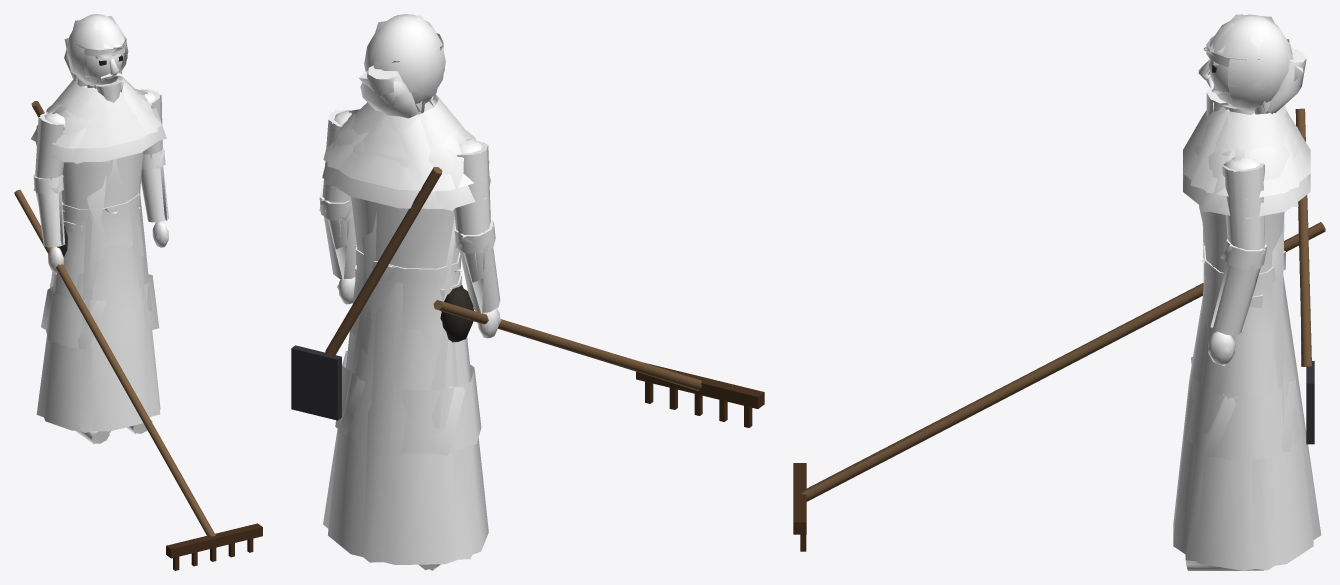
Rendered from char_collier.glb.
The picture shows the model from 3 angles, left to right: view 1: azimuth 30°, elevation 25°; view 2: azimuth 150°, elevation 25°; view 3: azimuth 270°, elevation 25°; orthographic projection. The views are drawn at different scales.
Parts seen in each view (by area): view 1: body__sex_f, body__sex_m, arm_R__base, head__hat_hood, lod1__body__sex_f, lod1__body__sex_m, lod1__head__hat_hood, arm_R__sleeves_full, arm_L__sleeves_full, arm_L__base, head__hat_cap, head__base (+5 smaller); view 2: body__sex_m, body__sex_f, head__hat_hood, lod1__body__sex_f, arm_R__base, lod1__body__sex_m, body__spade_yes_sex_m, lod1__head__hat_hood, head__hat_back, arm_R__sleeves_full, arm_L__sleeves_full, arm_L__base (+3 smaller); view 3: body__sex_m, body__sex_f, head__hat_hood, arm_R__base, lod1__body__sex_f, lod1__body__sex_m, arm_L__base, body__spade_yes_sex_m, lod1__head__hat_hood, arm_L__sleeves_full, head__hat_back, lod1__arm_L__base (+2 smaller).
Part boxes in pixels (x1=…): body__sex_f: x1=44, y1=165, x2=160, y2=431; body__sex_m: x1=36, y1=86, x2=158, y2=347; arm_R__base: x1=14, y1=111, x2=262, y2=570; head__hat_hood: x1=36, y1=14, x2=161, y2=148; lod1__body__sex_f: x1=36, y1=159, x2=160, y2=432; lod1__body__sex_m: x1=31, y1=88, x2=166, y2=349; lod1__head__hat_hood: x1=53, y1=16, x2=157, y2=148; arm_R__sleeves_full: x1=37, y1=191, x2=65, y2=247; arm_L__sleeves_full: x1=141, y1=166, x2=168, y2=222; arm_L__base: x1=139, y1=88, x2=168, y2=247; head__hat_cap: x1=76, y1=23, x2=126, y2=57; head__base: x1=87, y1=50, x2=124, y2=87; body__sex_m: x1=322, y1=105, x2=490, y2=453; body__sex_f: x1=328, y1=312, x2=488, y2=564; head__hat_hood: x1=323, y1=14, x2=489, y2=190; lod1__body__sex_f: x1=323, y1=270, x2=472, y2=562; arm_R__base: x1=433, y1=139, x2=764, y2=427; lod1__body__sex_m: x1=325, y1=99, x2=467, y2=455; body__spade_yes_sex_m: x1=291, y1=167, x2=442, y2=420; lod1__head__hat_hood: x1=327, y1=15, x2=445, y2=192; head__hat_back: x1=360, y1=65, x2=418, y2=118; arm_R__sleeves_full: x1=459, y1=247, x2=500, y2=312; arm_L__sleeves_full: x1=324, y1=216, x2=356, y2=279; arm_L__base: x1=322, y1=109, x2=355, y2=304; body__sex_m: x1=1183, y1=109, x2=1310, y2=462; body__sex_f: x1=1173, y1=212, x2=1313, y2=570; head__hat_hood: x1=1183, y1=14, x2=1310, y2=199; arm_R__base: x1=793, y1=222, x2=1325, y2=551; lod1__body__sex_f: x1=1185, y1=205, x2=1321, y2=570; lod1__body__sex_m: x1=1191, y1=113, x2=1298, y2=457; arm_L__base: x1=1208, y1=158, x2=1264, y2=365; body__spade_yes_sex_m: x1=1295, y1=108, x2=1314, y2=444; lod1__head__hat_hood: x1=1190, y1=14, x2=1300, y2=189; arm_L__sleeves_full: x1=1213, y1=262, x2=1258, y2=335; head__hat_back: x1=1268, y1=48, x2=1306, y2=112; lod1__arm_L__base: x1=1207, y1=156, x2=1264, y2=366.
Size of the model in its own units: 0.743 by 1.79 by 1.59.
